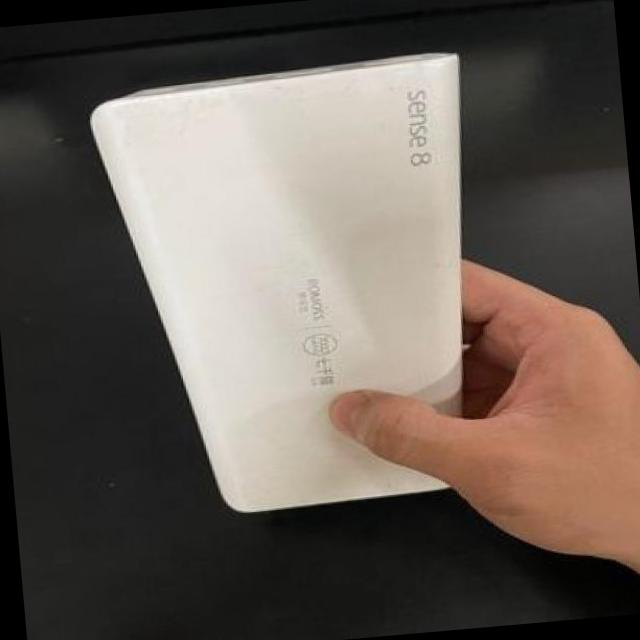portable-charger: (76, 41, 501, 532)
